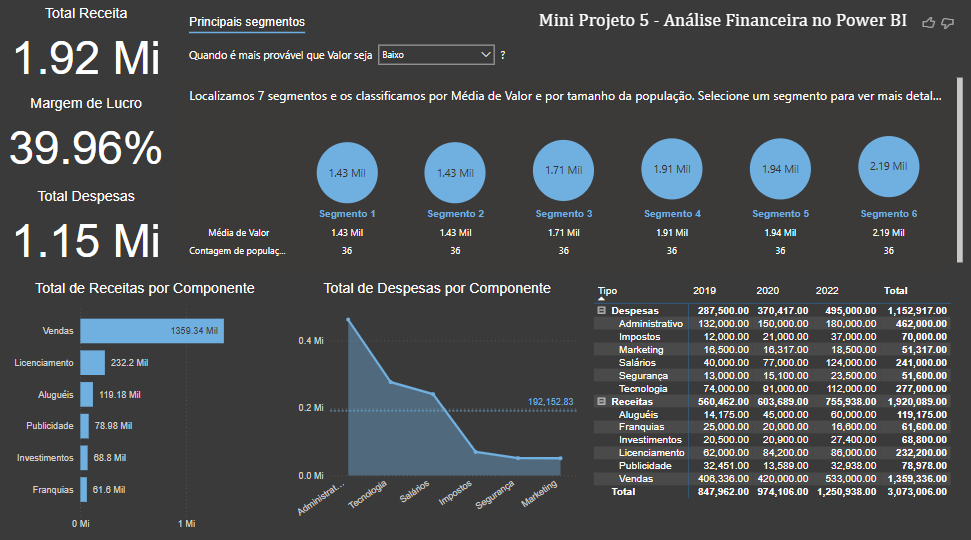

This screenshot's page, from the dashboard's own definition file:
{"tool":"powerbi","page":{"name":"Página 1","canvas":[1280,720],"ordinal":0},"visuals":[{"type":"card","title":"Total Receita","fields":{"Values":["Medidas.TotalReceitas"]},"box":[10.2,11.7,215.1,108.3],"z":0},{"type":"barChart","title":"Total de Receitas por Componente","fields":{"Y":["Medidas.TotalReceitas"],"Category":["DadosFinanceiros.Componente"]},"box":[10.2,371.7,368.8,335.1],"z":1000},{"type":"card","title":"Total Despesas","fields":{"Values":["Medidas.TotalDespesas"]},"box":[10.2,251.7,215.1,108.3],"z":2000},{"type":"card","title":"Margem de Lucro","fields":{"Values":["Medidas.Margem de Lucro"]},"box":[10.2,130.2,215.1,108.3],"z":3000},{"type":"areaChart","title":"Total de Despesas por Componente","fields":{"Category":["DadosFinanceiros.Componente"],"Y":["Medidas.TotalDespesas"]},"box":[389.3,371.7,377.6,335.1],"z":4000},{"type":"pivotTable","fields":{"Columns":["DadosFinanceiros.Data.Variation.Hierarquia de datas.Ano"],"Rows":["DadosFinanceiros.Tipo","DadosFinanceiros.Componente"],"Values":["Sum(DadosFinanceiros.Valor)"]},"box":[777.1,371.7,493.2,335.1],"z":5000},{"type":"keyDriversVisual","fields":{"Target":["DadosFinanceiros.Valor"],"ExplainBy":["DadosFinanceiros.Tipo","DadosFinanceiros.Componente"]},"box":[235.6,11.7,1034.6,348.3],"z":6000},{"type":"textbox","box":[706.1,12.4,506.5,53.7],"z":8000}]}

Visuals, with their boxes in screenshot pixels (x1, y1, x2, y2), scaled from the page's 1280x720 canvas onto the 971x540 screenshot:
"Total Receita" card: select_region(8, 9, 171, 90)
"Total de Receitas por Componente" barChart: select_region(8, 279, 288, 530)
"Total Despesas" card: select_region(8, 189, 171, 270)
"Margem de Lucro" card: select_region(8, 98, 171, 179)
"Total de Despesas por Componente" areaChart: select_region(295, 279, 582, 530)
pivotTable - DadosFinanceiros.Data.Variation.Hierarquia de datas.Ano x DadosFinanceiros.Tipo: select_region(590, 279, 964, 530)
keyDriversVisual - DadosFinanceiros.Valor x DadosFinanceiros.Tipo: select_region(179, 9, 964, 270)
textbox: select_region(536, 9, 920, 50)
